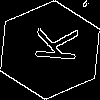K: (25, 25, 78, 63)
